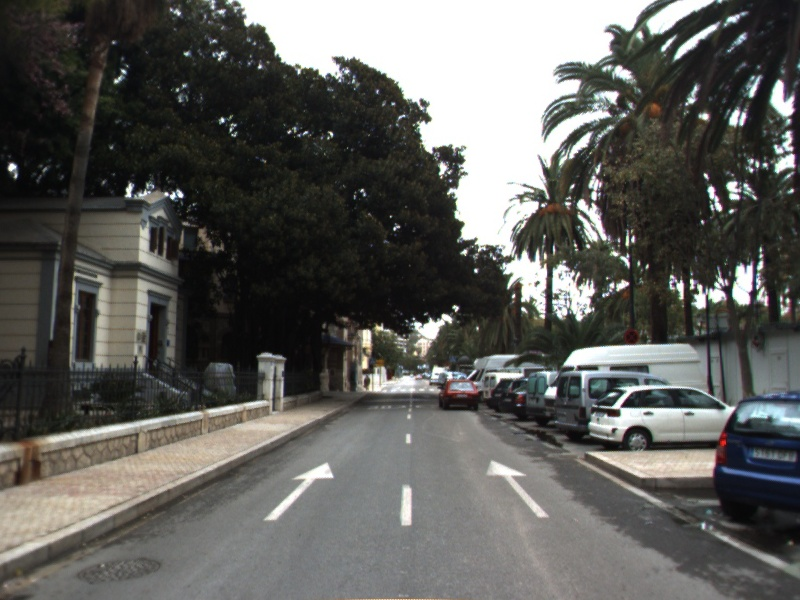STRAIGHT: (261, 461, 336, 523), (484, 458, 552, 520)
